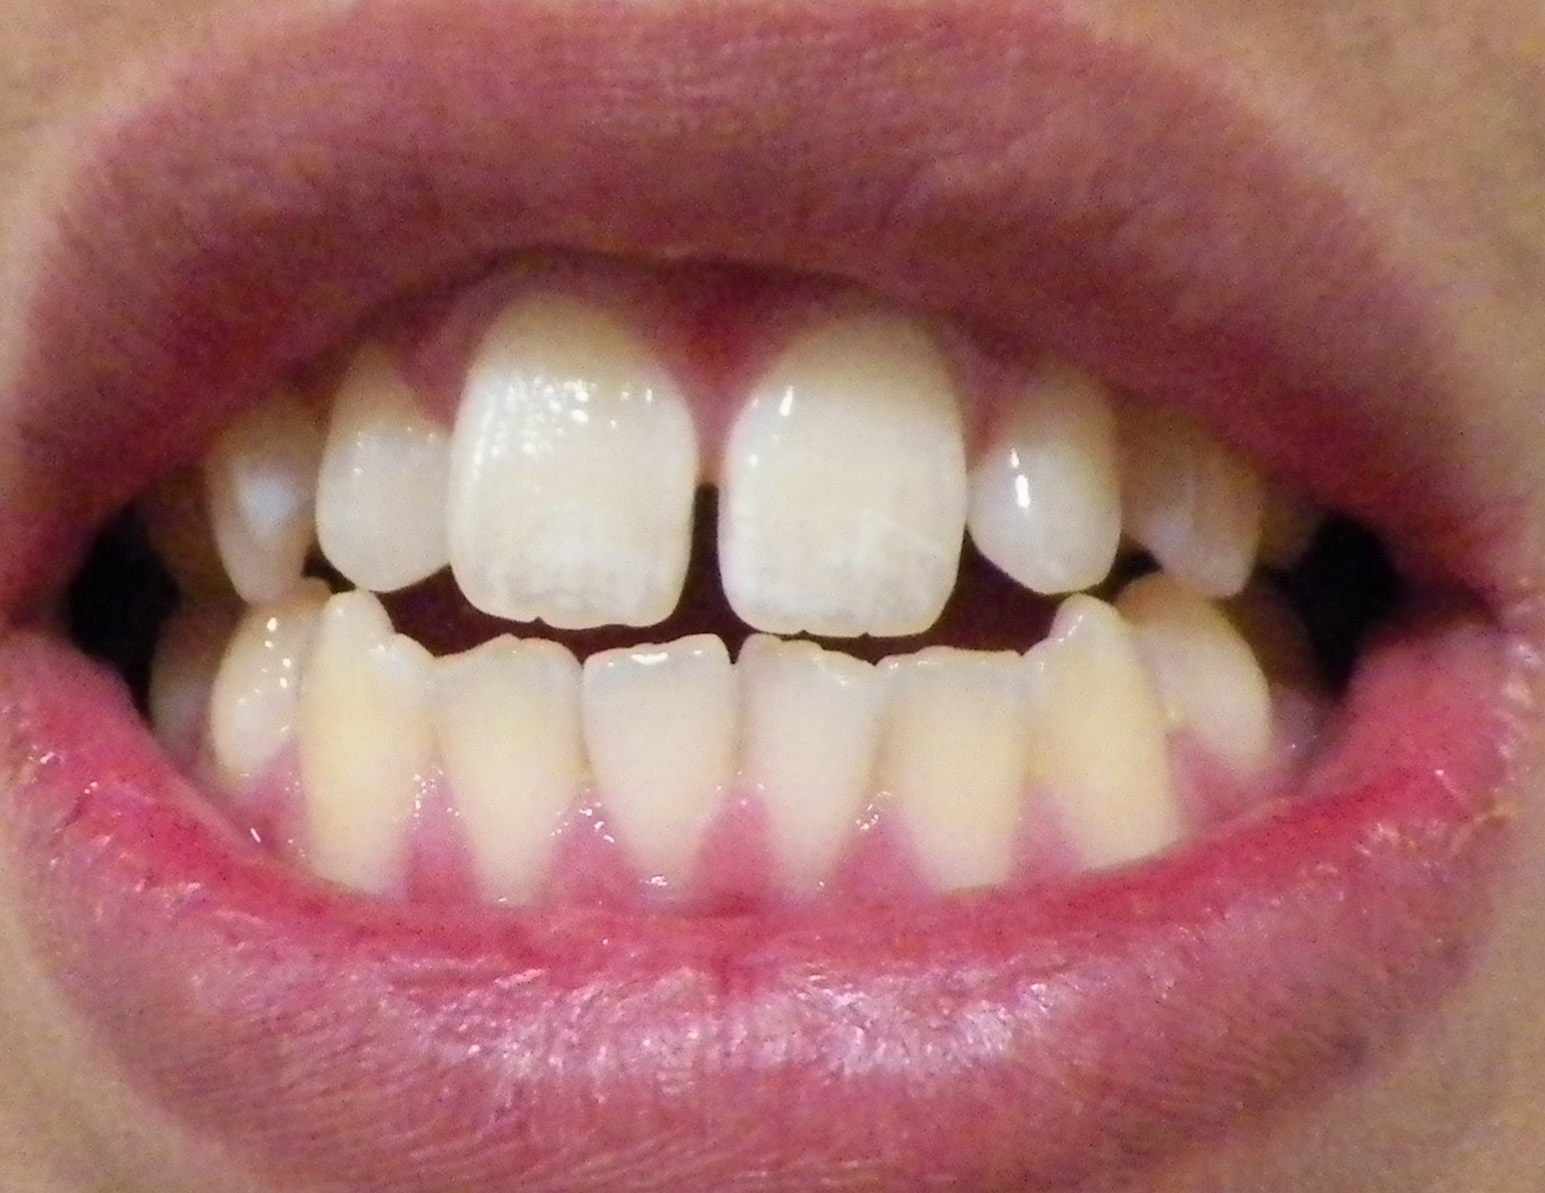boca: (147, 310, 1264, 893)
